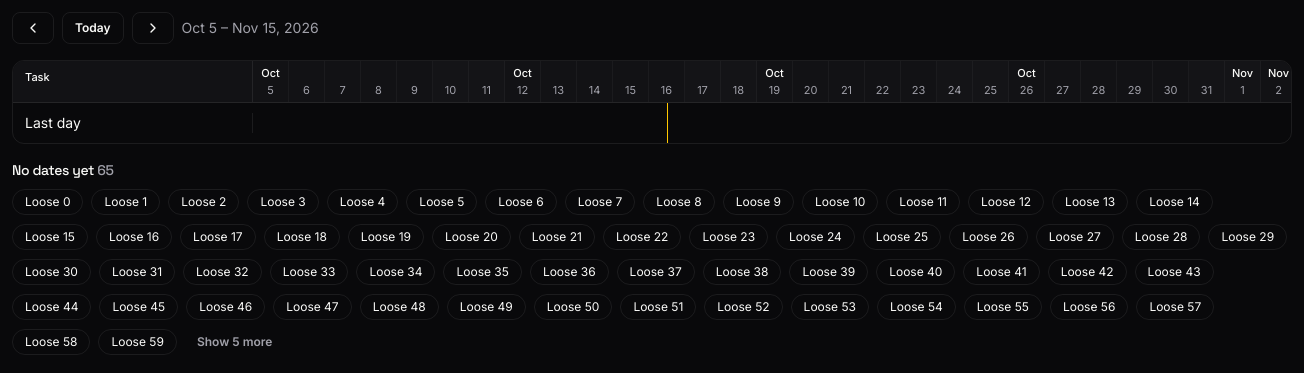
TaskGantt › keeps a task due on the last shown day, and reveals more undated tasks on demand
expect the text "Loose 64" is not shown: met
Click the button "Show 5 more". click: {"x": 235, "y": 342}
box: [185,328,284,356]
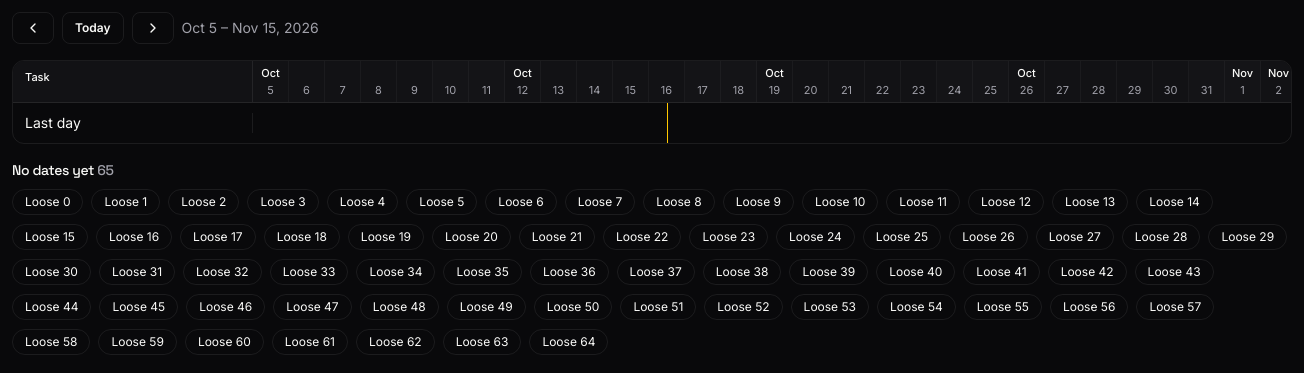
expect the button "Loose 64" is shown: met, box [529,329,608,355]
